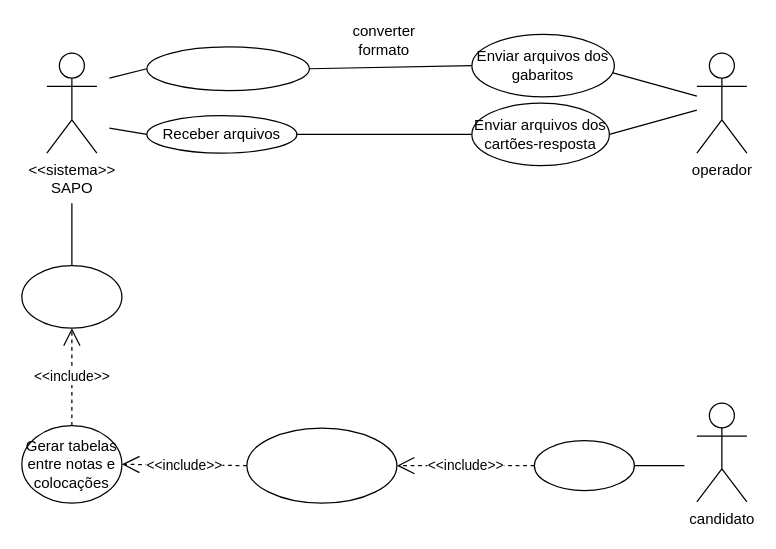
Some shapes in this 776 by 549 pixel diagram are drawn without their labels. The centre of each missing label's shape, as x and y in pixels:
Comparar respostas e gabarito: point (71, 296)
Consultar site: point (583, 465)
Disponibilizar website: point (321, 465)
Receber arquivos OCR: point (227, 68)
